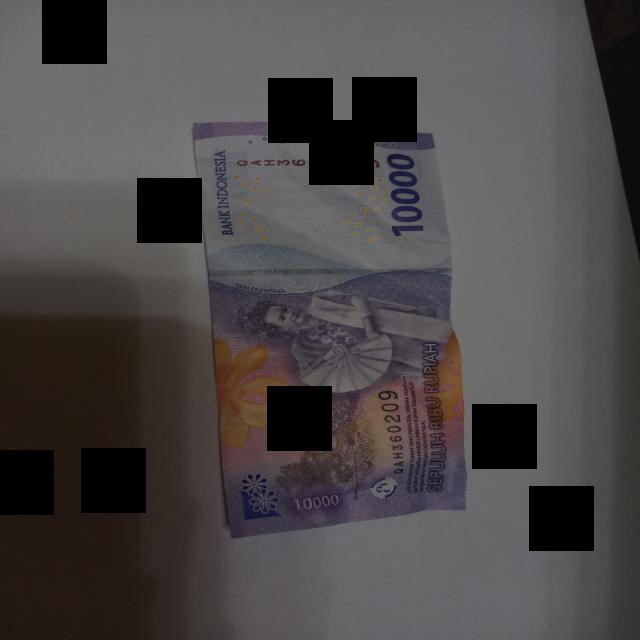sepuluhribu rupiah: (193, 122, 467, 538)
